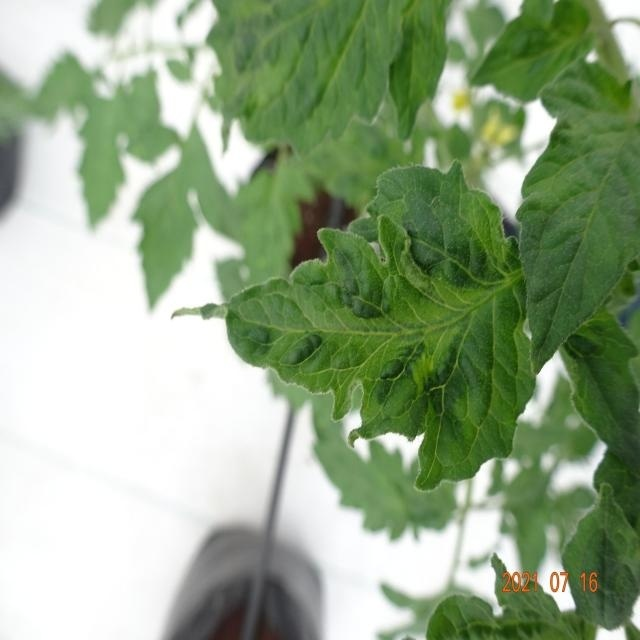T_L_R: (226, 163, 536, 491), (519, 99, 640, 371), (208, 1, 407, 154), (561, 310, 640, 474), (473, 1, 596, 101), (564, 485, 640, 631), (390, 1, 450, 139)
